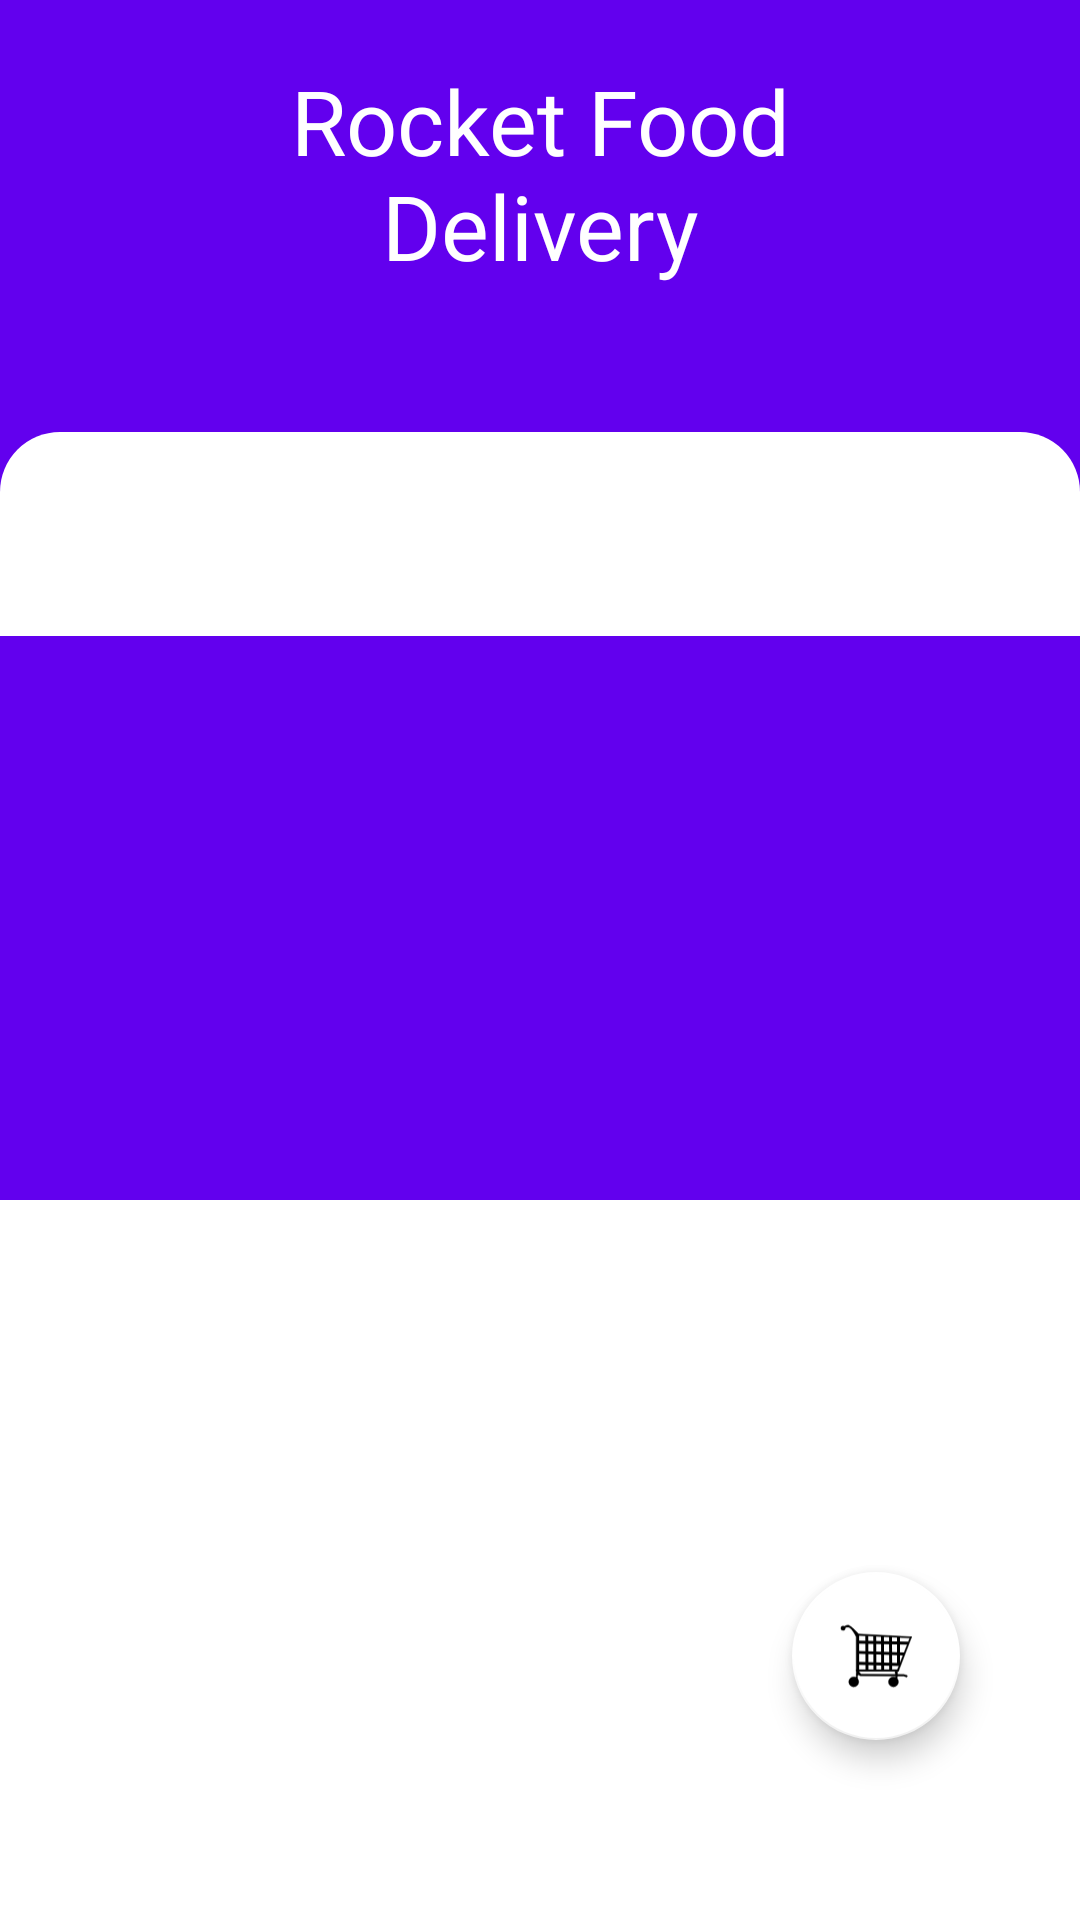

Named icons in this screenshot (1080px×1920px) and their bounding boxes, box=[x1, y1, x2, y2]:
shoppingcart: box=[796, 1624, 912, 1688]
